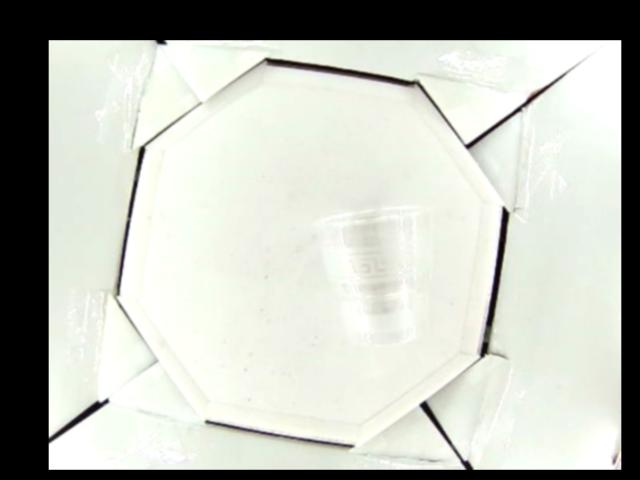Cup: (322, 205, 430, 346)
